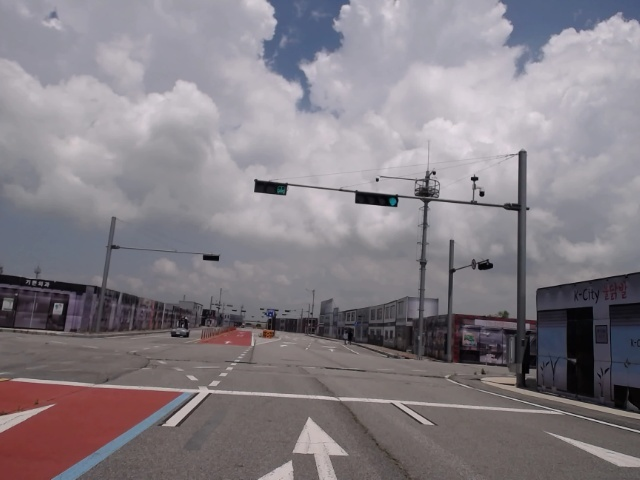straight_green_4: (355, 190, 398, 207)
